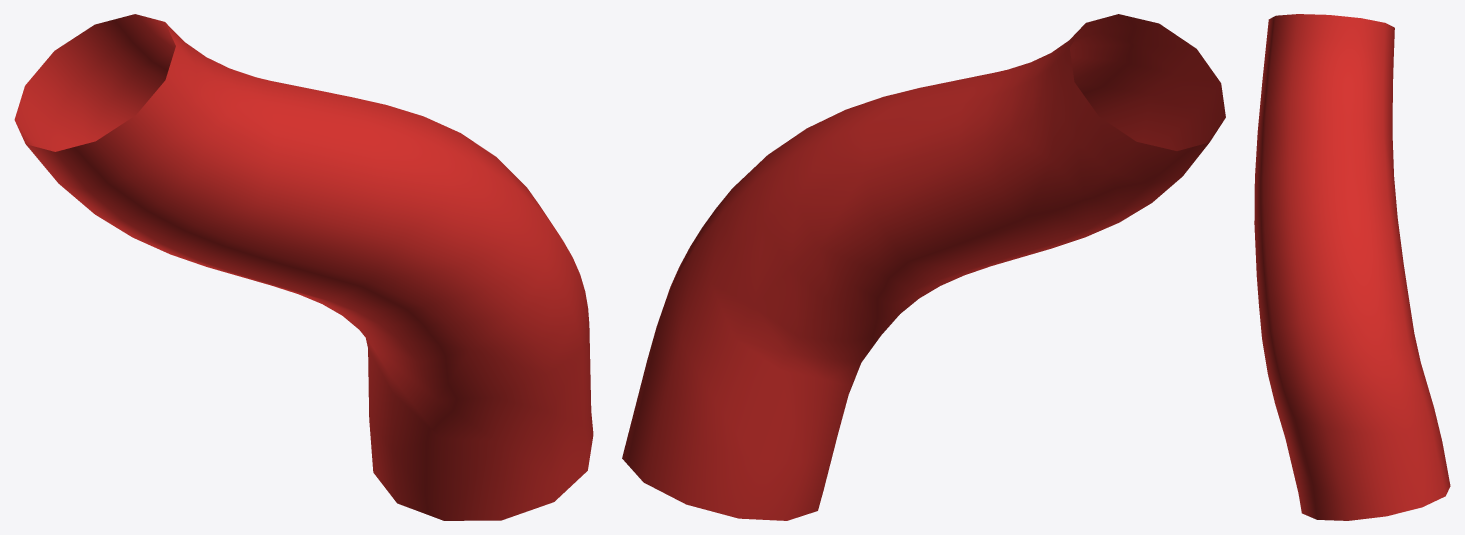
The model's file is circulatorio-brachiocephalic-trunk.glb.
The picture shows the model from 3 angles, left to right: view 1: azimuth 30°, elevation 25°; view 2: azimuth 150°, elevation 25°; view 3: azimuth 270°, elevation 25°; orthographic projection. The views are drawn at different scales.
Parts seen in each view (by area): view 1: Brachiocephalic trunk; view 2: Brachiocephalic trunk; view 3: Brachiocephalic trunk.
Part boxes in pixels (x1,y1,x2,y2): Brachiocephalic trunk: (14,14,593,520); Brachiocephalic trunk: (622,14,1225,520); Brachiocephalic trunk: (1254,14,1450,520).
Bounding box in the file's own units: 0.036 × 0.0335 × 0.0155.
